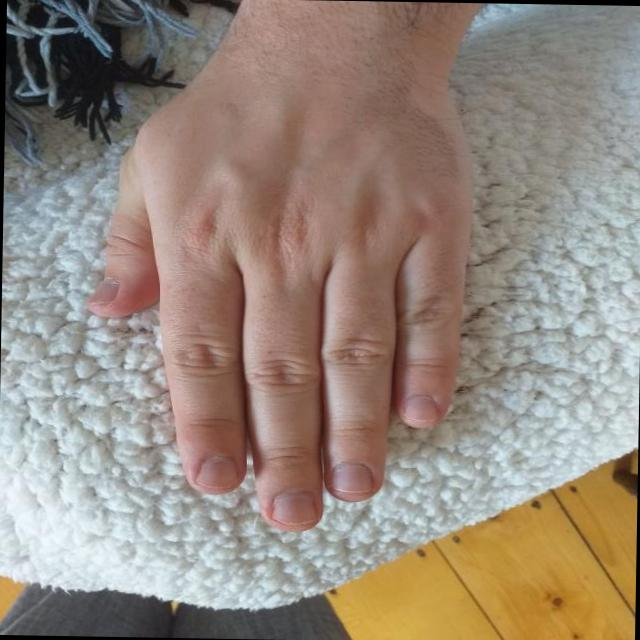Nail: (268, 489, 317, 530), (196, 456, 238, 493), (330, 463, 372, 494), (399, 394, 438, 427), (88, 282, 118, 310)
